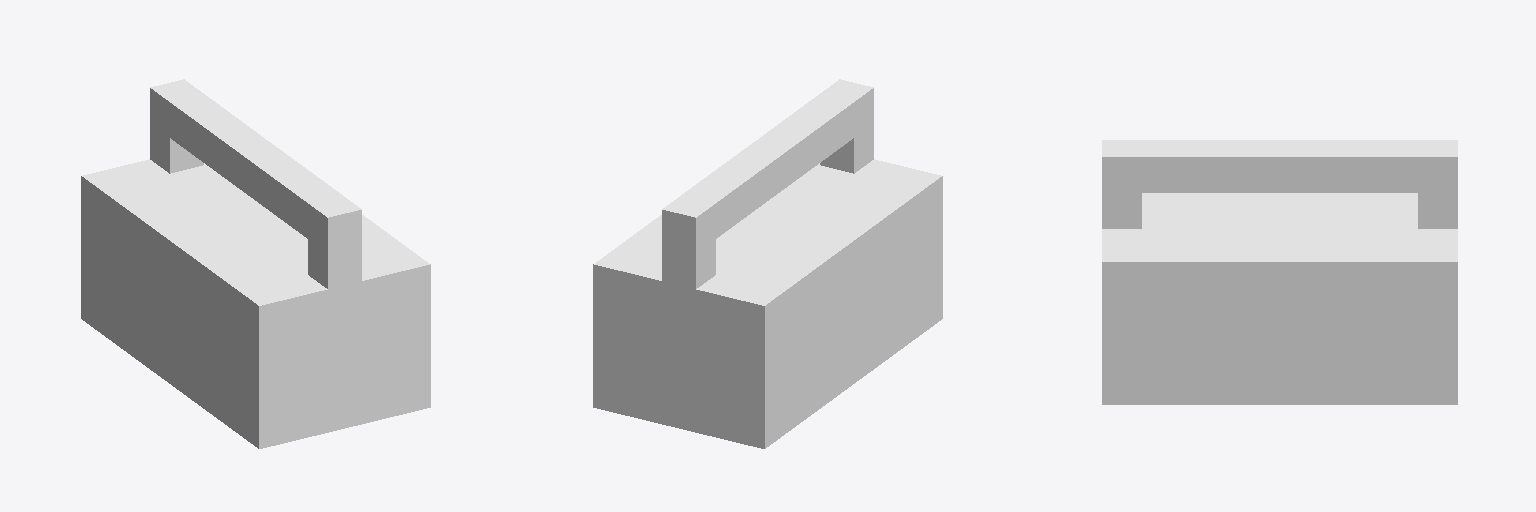
The model's file is Lunchbox.obj.
The picture shows the model from 3 angles: view 1: azimuth 30°, elevation 25°; view 2: azimuth 150°, elevation 25°; view 3: azimuth 270°, elevation 25°; orthographic projection.
Parts seen in each view (by area): view 1: Lunchbox; view 2: Lunchbox; view 3: Lunchbox.
Part boxes in pixels (x1,y1,x2,y2): Lunchbox: (81,79,430,448); Lunchbox: (593,79,942,448); Lunchbox: (1102,140,1457,404).
Bounding box in the file's own units: 5 × 6 × 9.